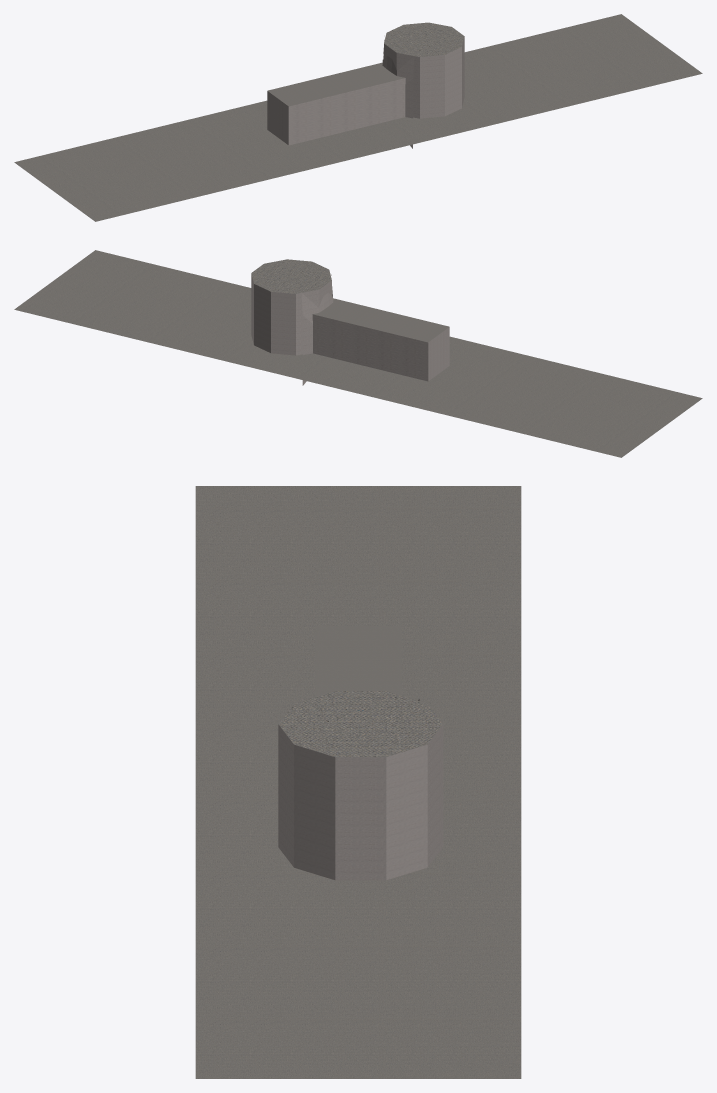
Rendered from Final_level.glb.
3 renders of one model, top to bottom at view 1: azimuth 30°, elevation 25°; view 2: azimuth 150°, elevation 25°; view 3: azimuth 270°, elevation 25°, orthographic. The views are drawn at different scales.
Parts seen in each view (by area): view 1: Cube.001, Cube; view 2: Cube.001, Cube; view 3: Cube.001, Cube.
Part boxes in pixels (bbox=[...]): Cube.001: bbox=[14, 14, 702, 221]; Cube: bbox=[267, 22, 464, 148]; Cube.001: bbox=[14, 250, 702, 457]; Cube: bbox=[251, 259, 449, 385]; Cube.001: bbox=[195, 486, 521, 1078]; Cube: bbox=[278, 626, 443, 880].
Size of the model in its own units: 361 by 52.97 by 83.77.
2 materials, 2 textured.
